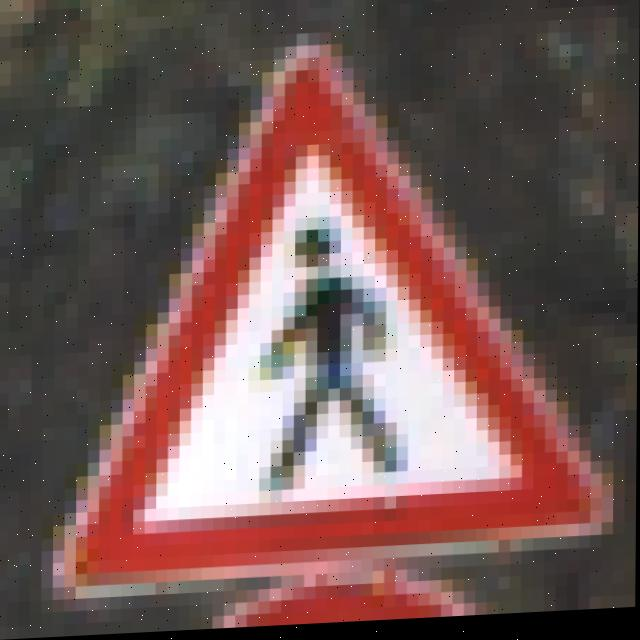crosswalk: (131, 97, 591, 575)
